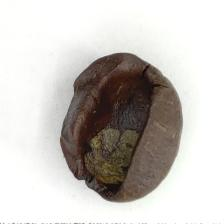NG: (77, 72, 152, 194)
